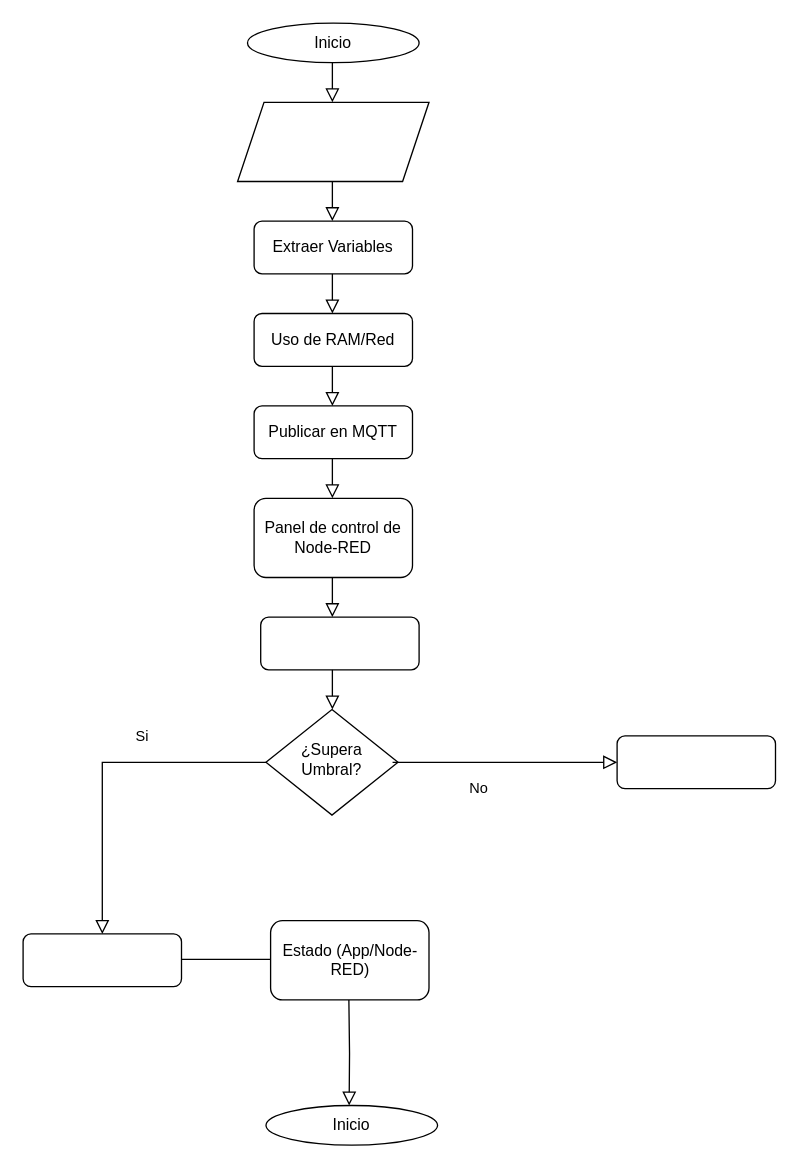
The diagram is 799 pixels wide and 1168 high, and some of its shapes have lost their labels. The shapes that lost their labels are listed below. From the top down, each one's centre as x and y in pixels, then its label:
At (332,141): "Python Script Inicia".
At (339,643): "Evaluar Umbrales".
At (696,762): "Esperar".
At (102,960): "Enviar a Firebase".
